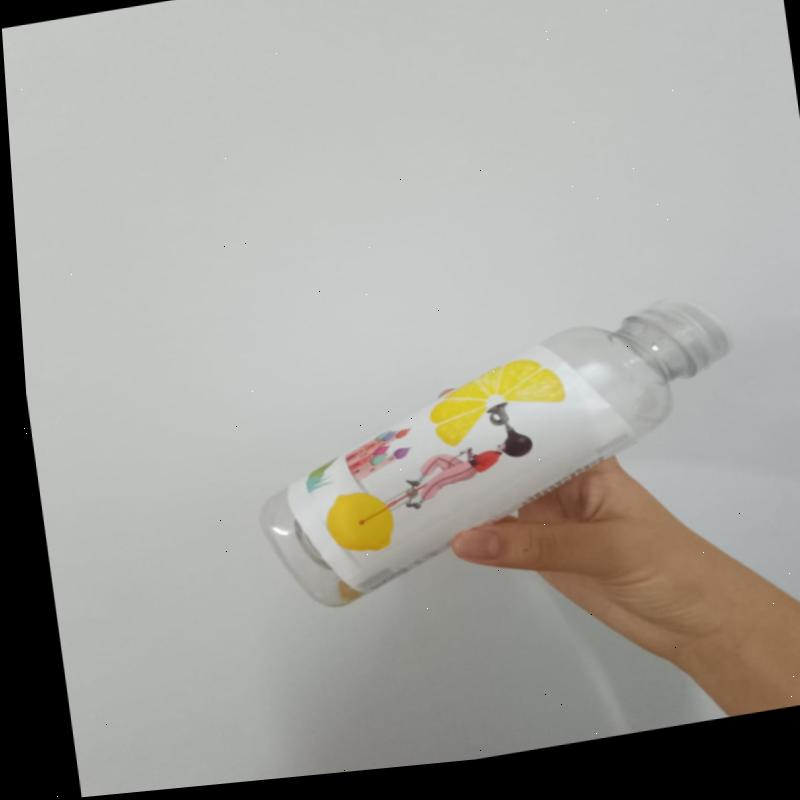botella: (227, 293, 760, 628)
